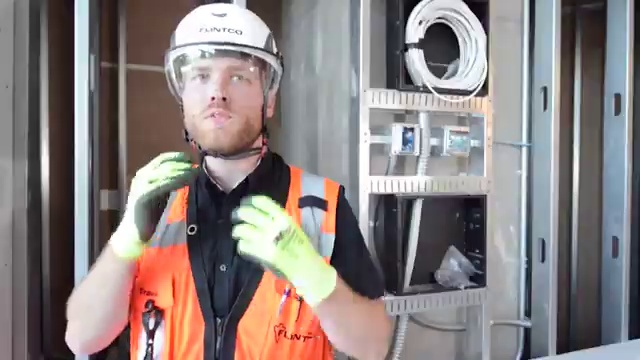helmet: (161, 1, 292, 101)
jacket: (120, 151, 358, 360)
